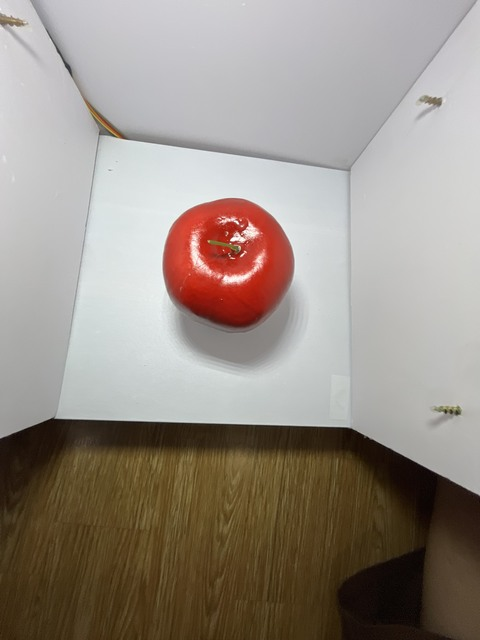Tao: (161, 190, 301, 339)
